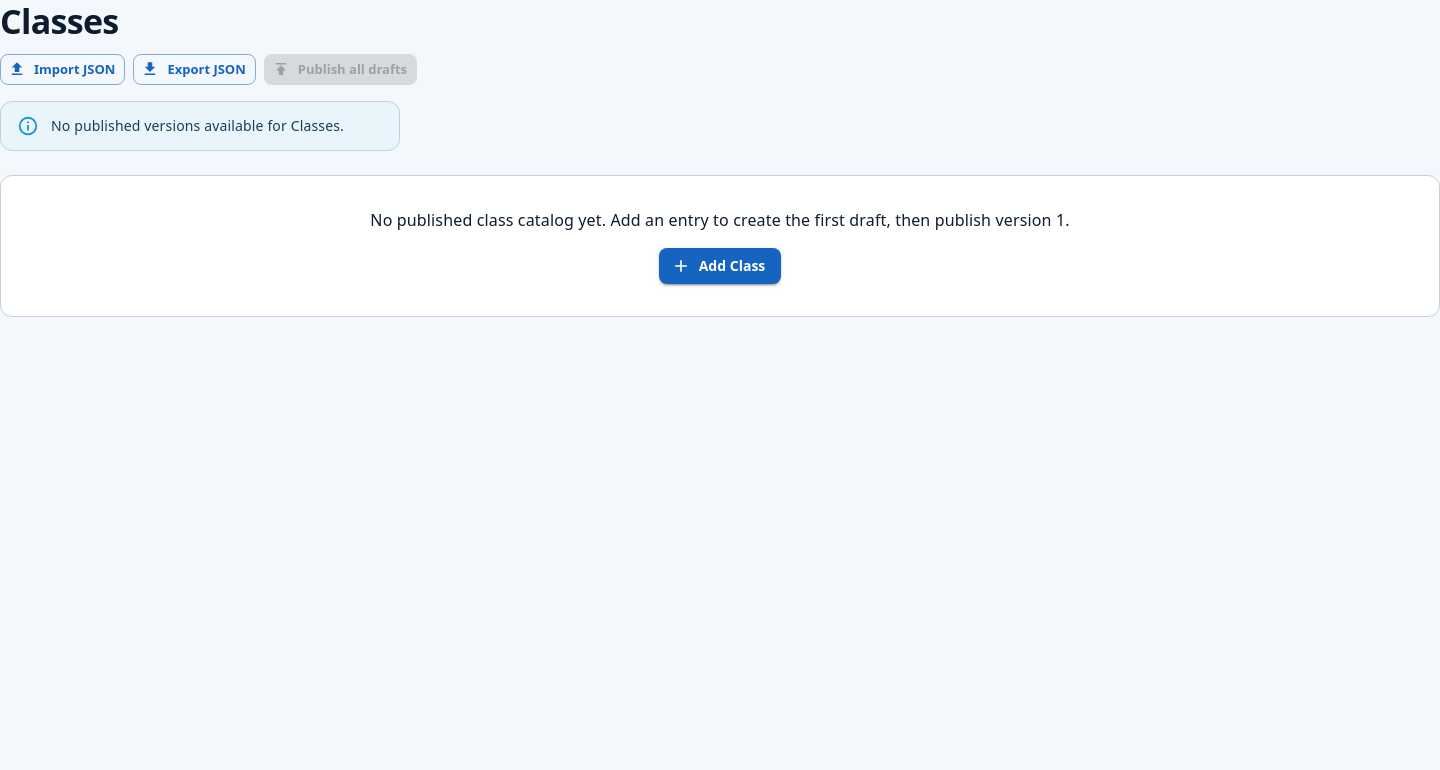
Test: Empty catalog publish errors (MMO-39) › shows a 409 error and refetches published versions
This screenshot has width=1440, height=770.
Click the button "Add Class" at (720, 266), box [659, 248, 781, 284]
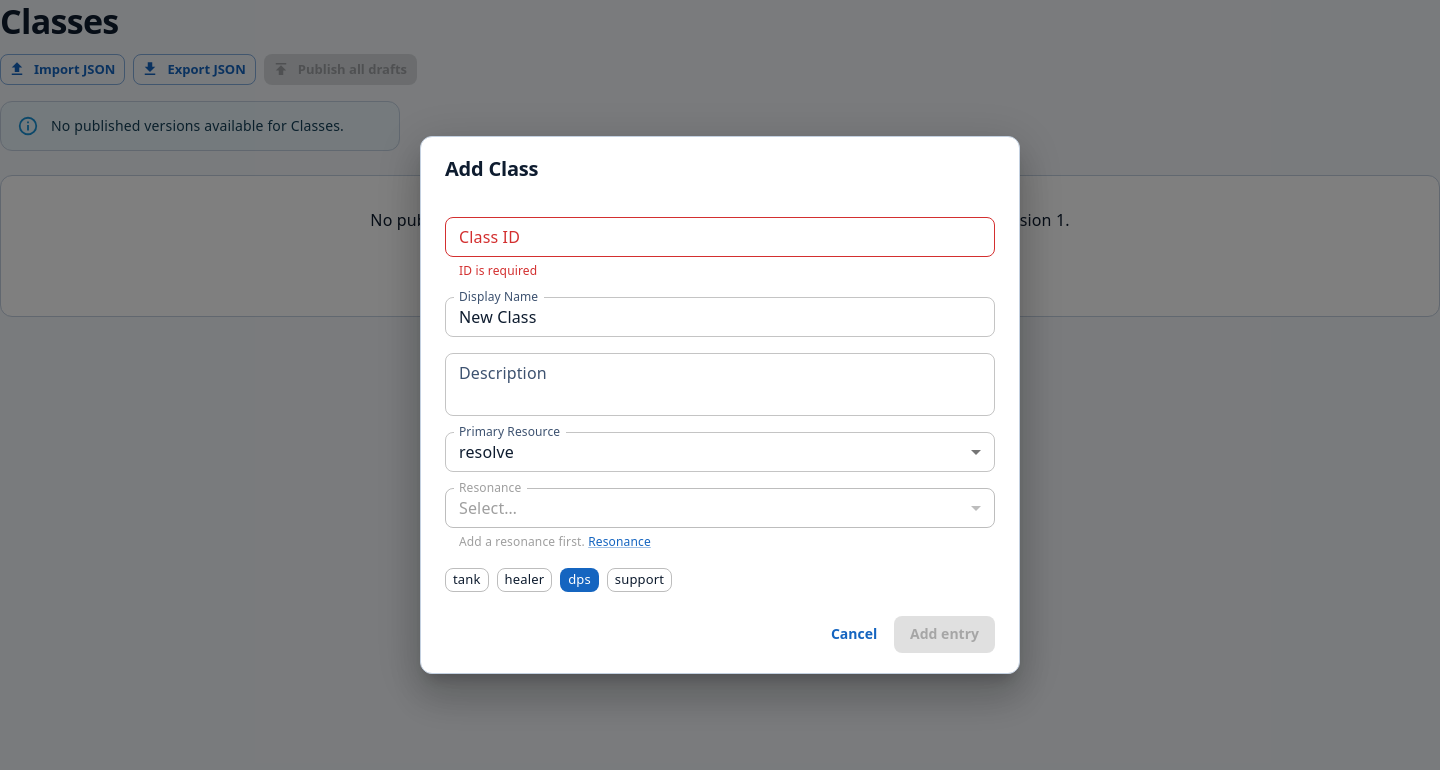
Type "warden" into the field labelled "Class ID" at (720, 237), box [445, 217, 995, 257]
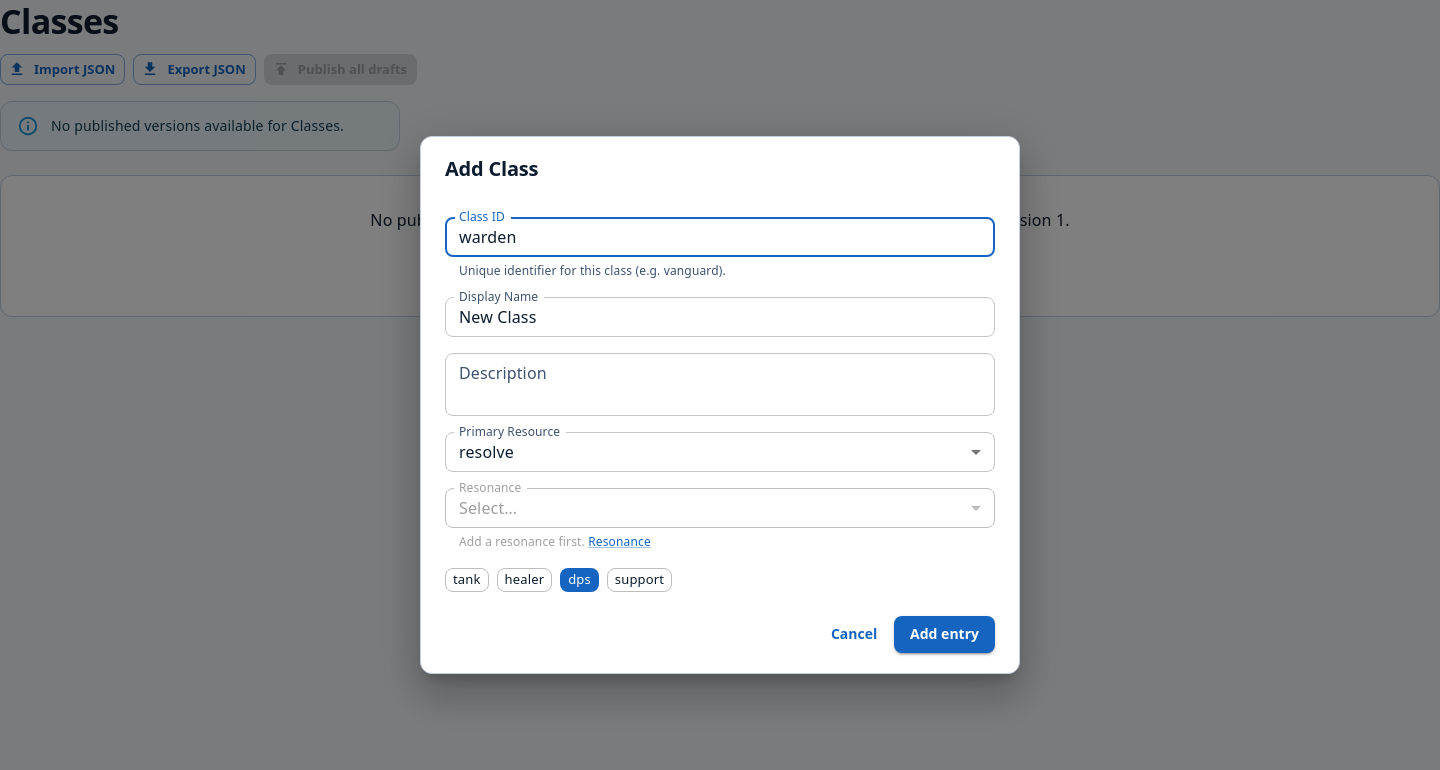
Click the button "Add entry" at (945, 634), box [894, 616, 995, 653]
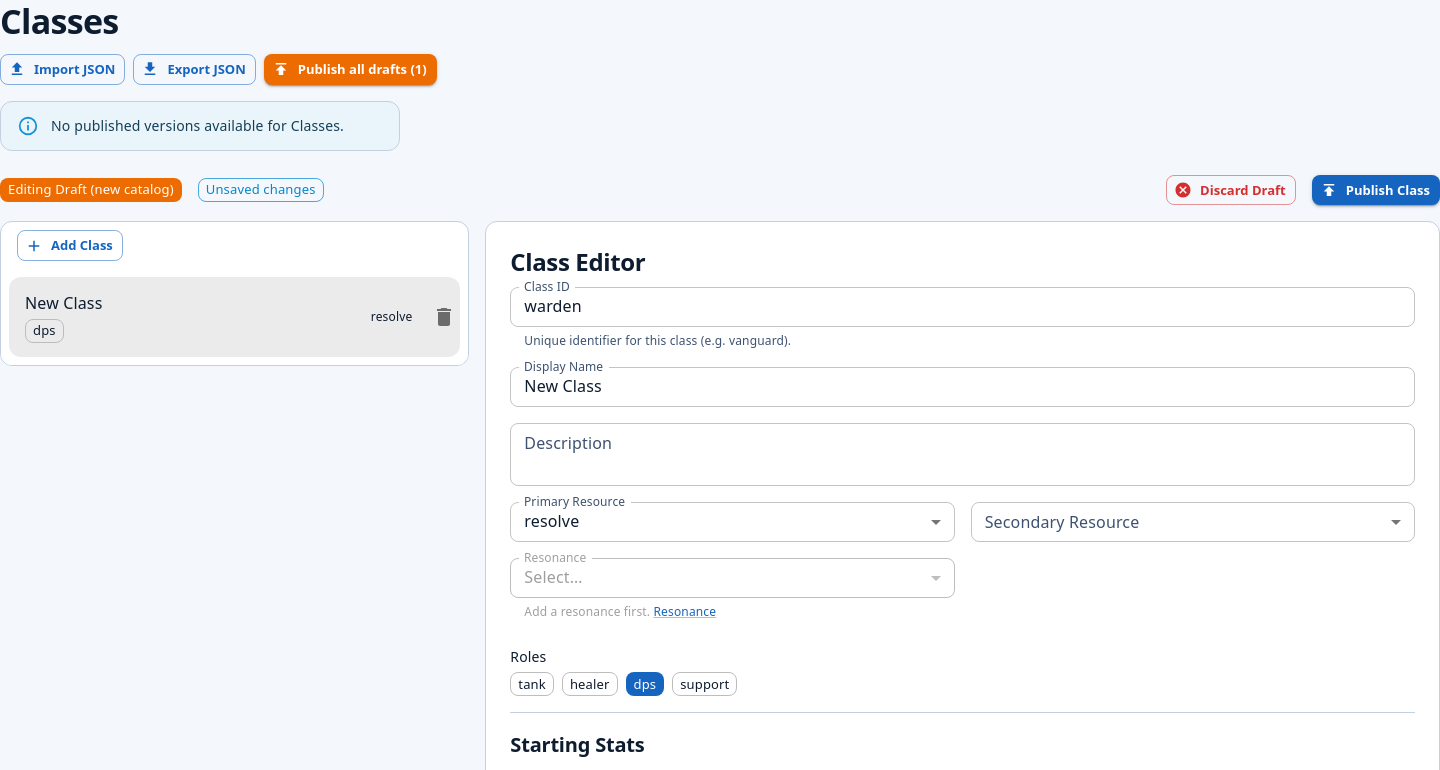
Click the button "Publish Class" at (1376, 190), box [1312, 175, 1439, 205]
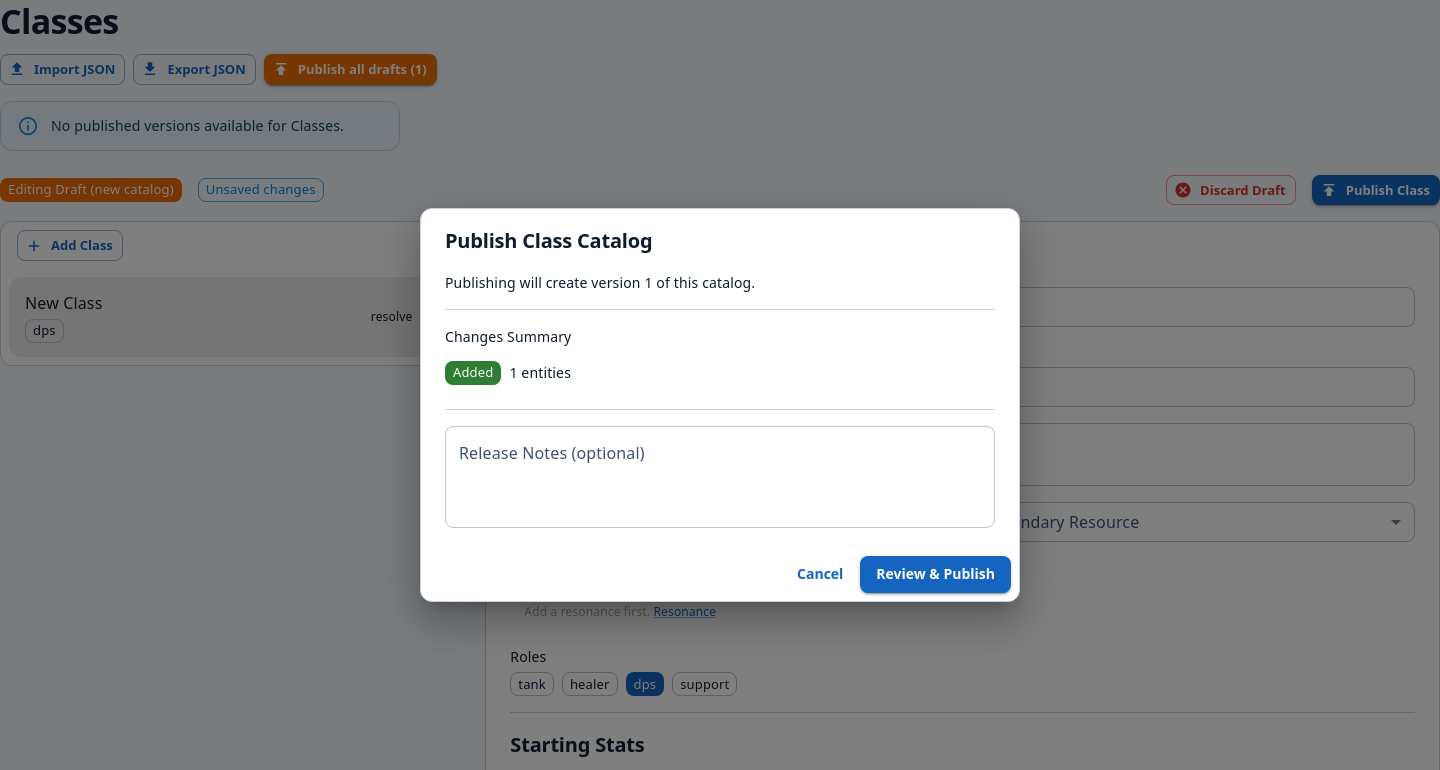
Click the button "Review & Publish" at (936, 574), box [860, 556, 1011, 593]
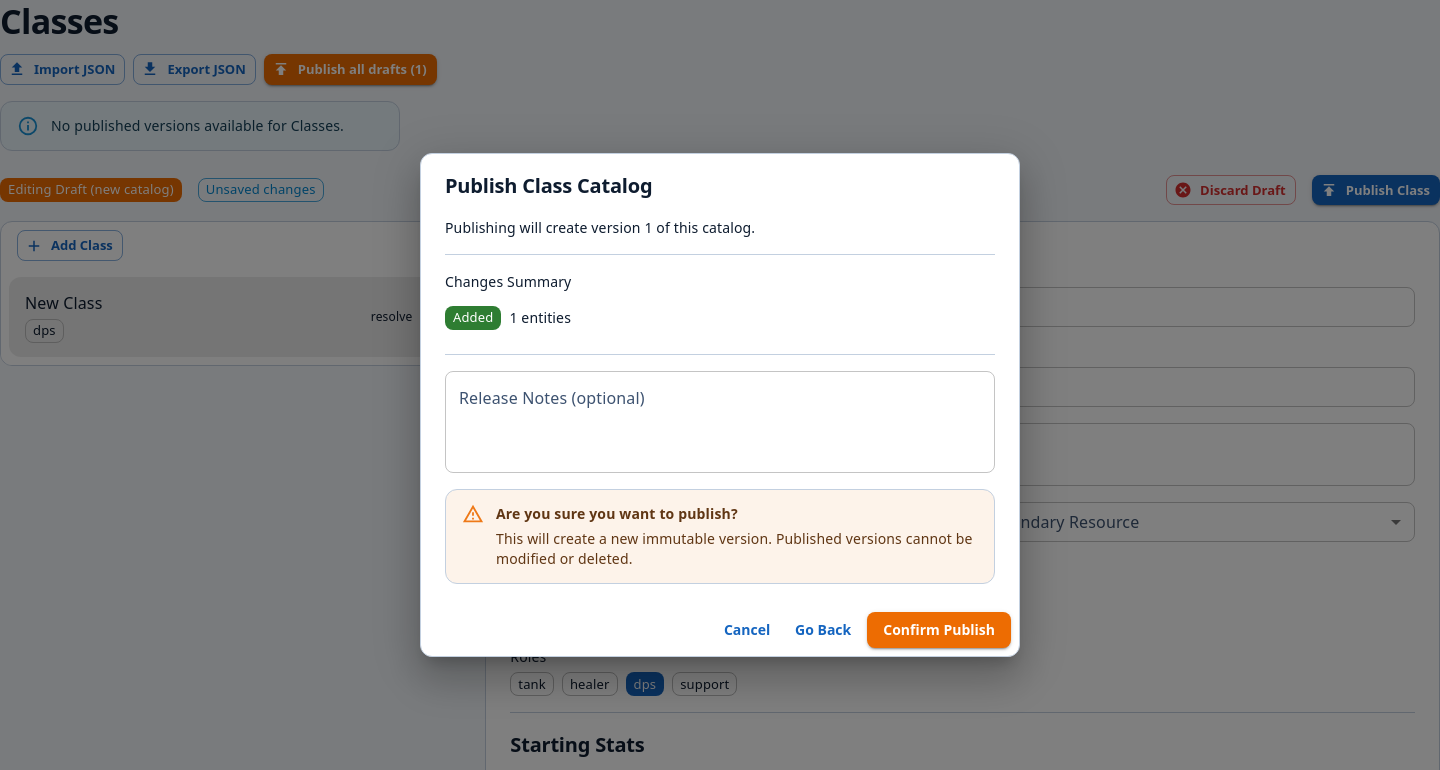
Click the button "Confirm Publish" at (939, 630), box [867, 612, 1011, 648]
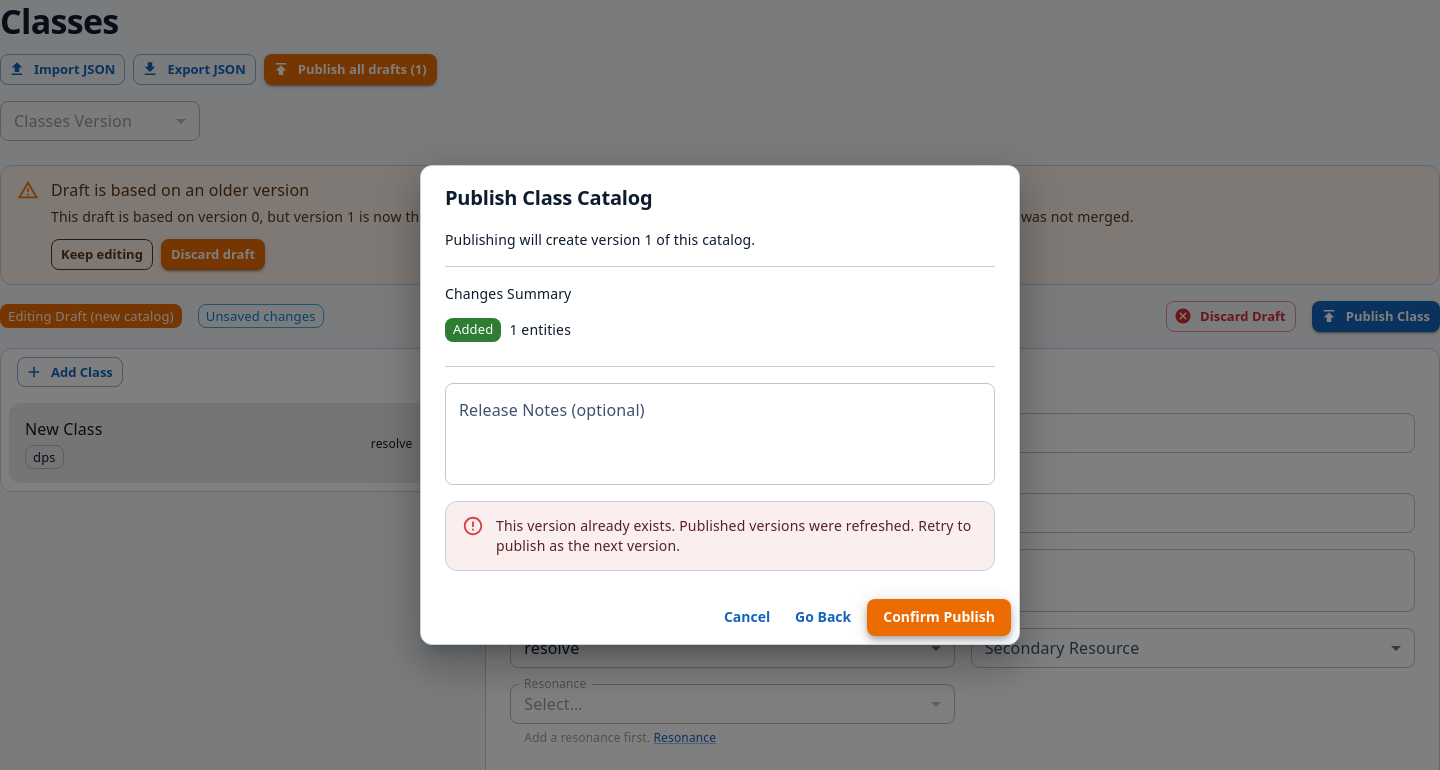
Now the text "This version already exists" is shown, box [496, 516, 971, 555]
